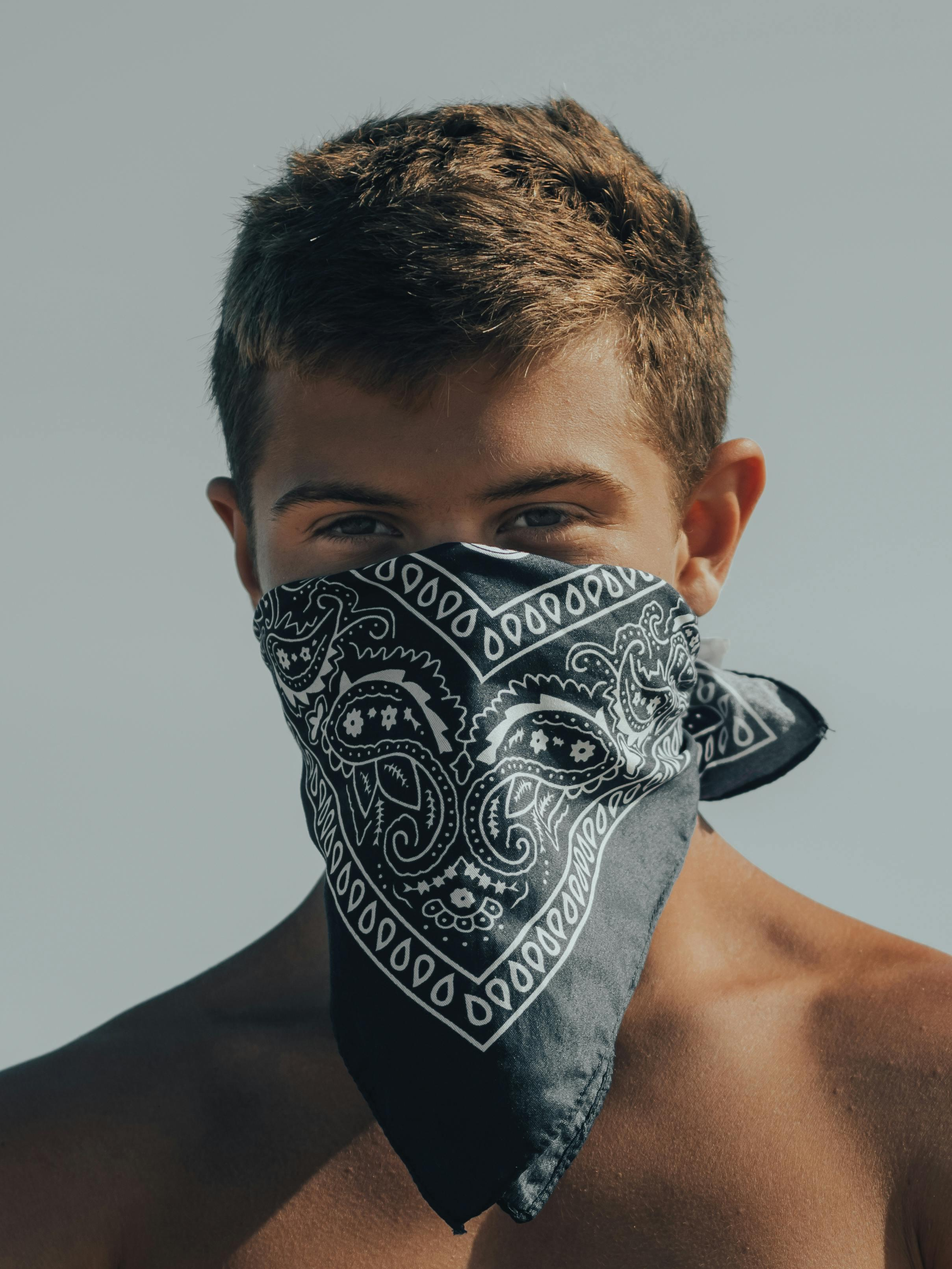scarf-kerchief: (228, 535, 863, 1248)
